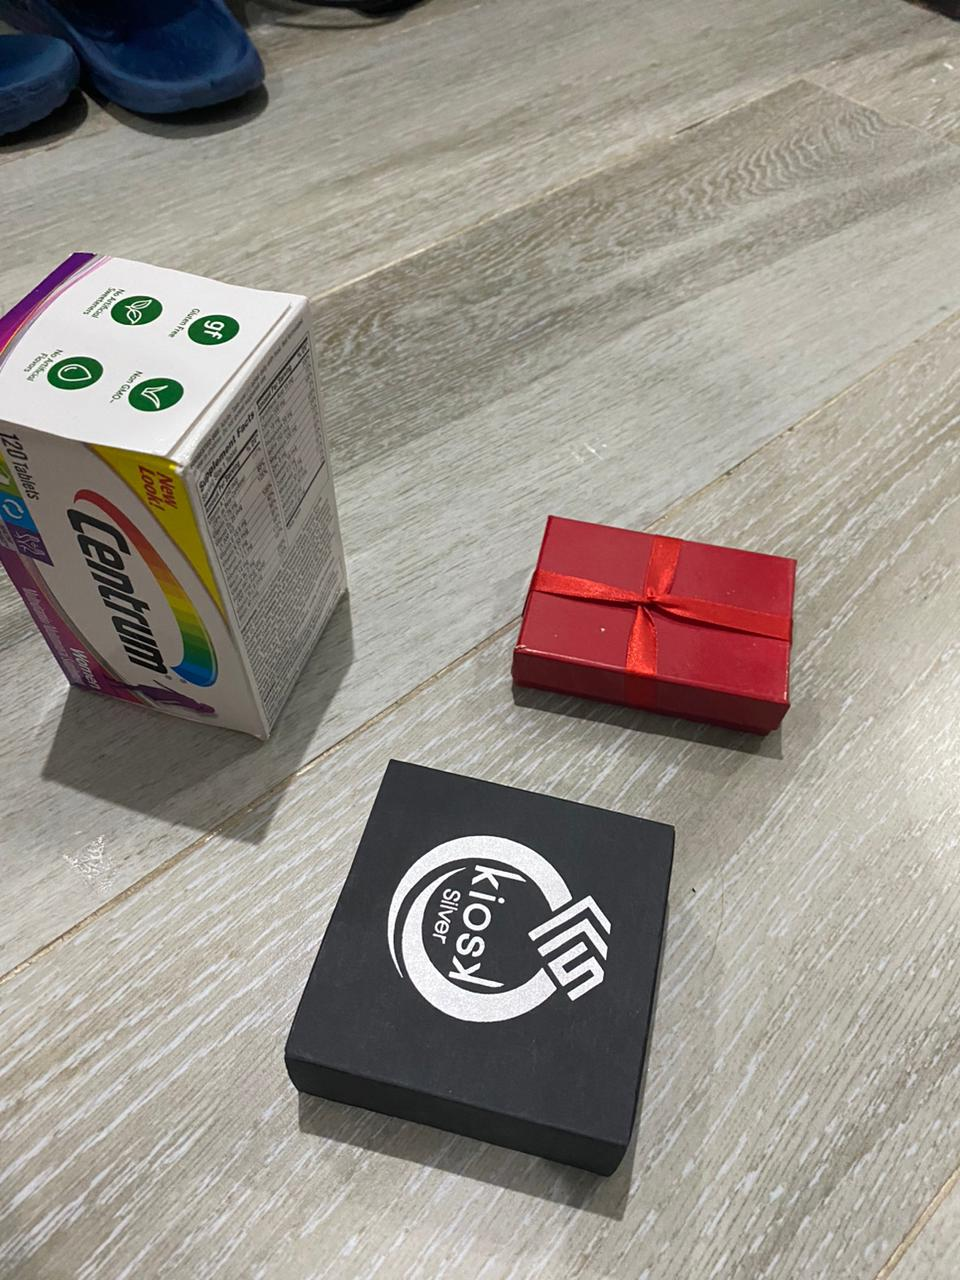Black Box: (514, 512, 798, 731)
Centrum: (5, 242, 356, 748)
Red Box: (283, 757, 679, 1176)
